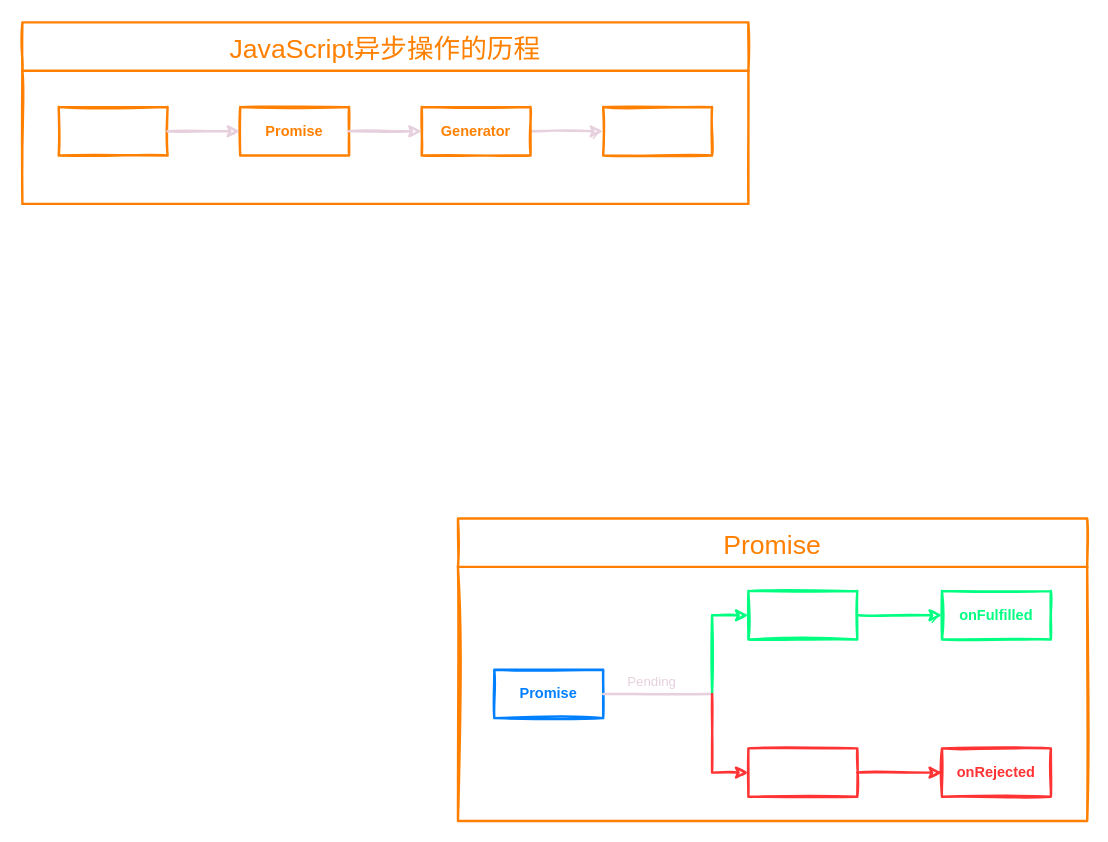
Some shapes in this 1108 by 842 pixel diagram are drawn without their labels. The box of each missing label's shape, as (x1, y1, x2, y2) in pixels:
Async: (601, 105, 713, 156)
Fulfilled: (747, 589, 858, 640)
Rejected: (747, 747, 858, 797)
回调函数: (57, 105, 168, 156)
